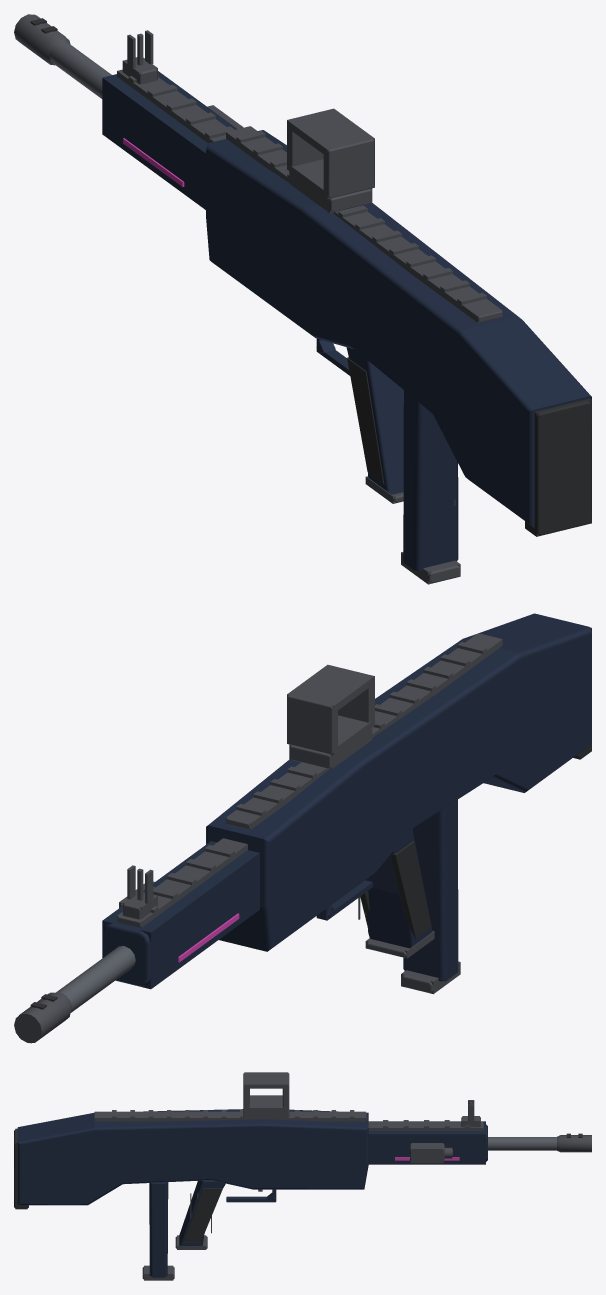
File: a_banner.glb
3 views of the same model, one above another, from view 1: azimuth 30°, elevation 25°; view 2: azimuth 150°, elevation 25°; view 3: azimuth 270°, elevation 25° (orthographic). The views are drawn at different scales.
Visible parts, largest first — view 1: L0, L1; view 2: L0, L1; view 3: L0, L1.
Boxes of the visible parts, left/top/right/bottom form: L0: left=14, top=14, right=591, bottom=583; L1: left=15, top=15, right=591, bottom=584; L0: left=14, top=613, right=591, bottom=1042; L1: left=14, top=627, right=591, bottom=1043; L0: left=14, top=1073, right=591, bottom=1279; L1: left=15, top=1072, right=591, bottom=1280.
Size of the model in its own units: 0.0675 by 0.2985 by 0.7898.
